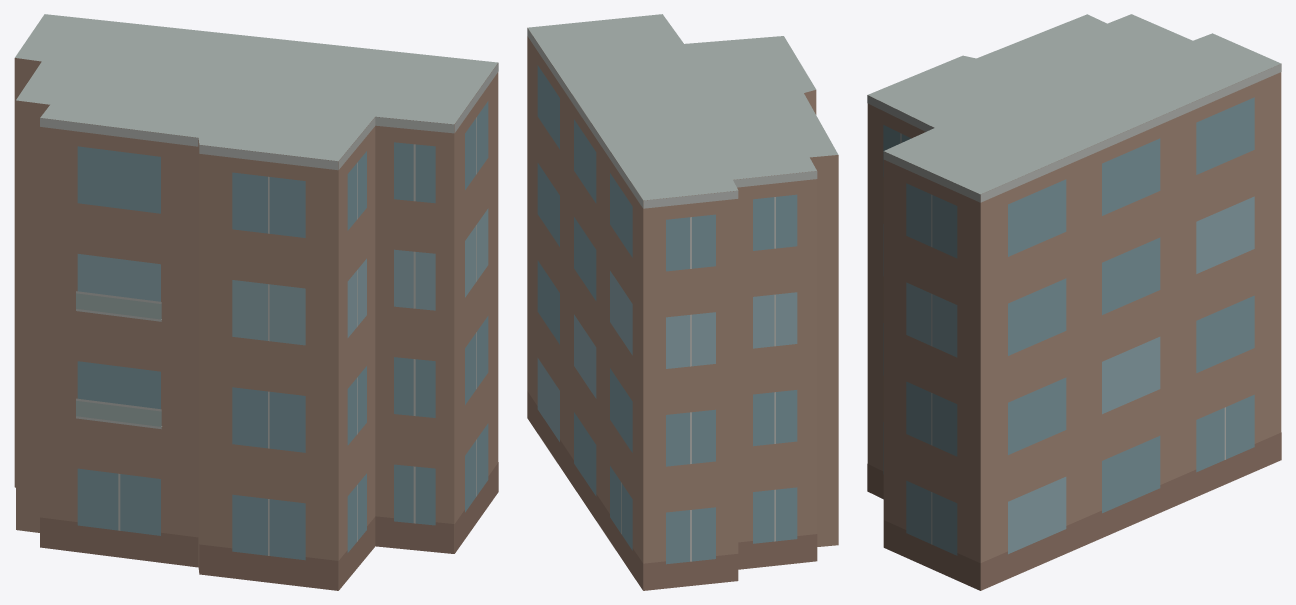
The model's file is survey-upis-33035714.glb.
3 views of the same model, side by side, from view 1: azimuth 30°, elevation 25°; view 2: azimuth 150°, elevation 25°; view 3: azimuth 270°, elevation 25° (orthographic). The views are drawn at different scales.
Parts seen in each view (by area): view 1: survey-upis-33035714.tmp; view 2: survey-upis-33035714.tmp; view 3: survey-upis-33035714.tmp.
Part boxes in pixels (bbox=[...]): survey-upis-33035714.tmp: bbox=[14, 14, 498, 590]; survey-upis-33035714.tmp: bbox=[527, 14, 838, 590]; survey-upis-33035714.tmp: bbox=[867, 14, 1281, 590].
Size of the model in its own units: 11.33 by 11.6 by 10.99.
